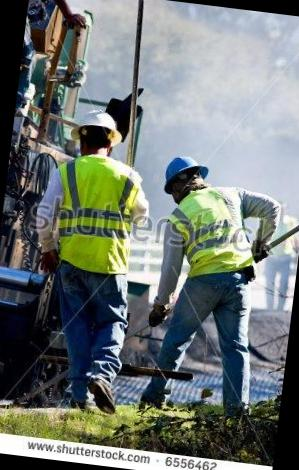Vest: (50, 146, 136, 275), (175, 181, 250, 277)
